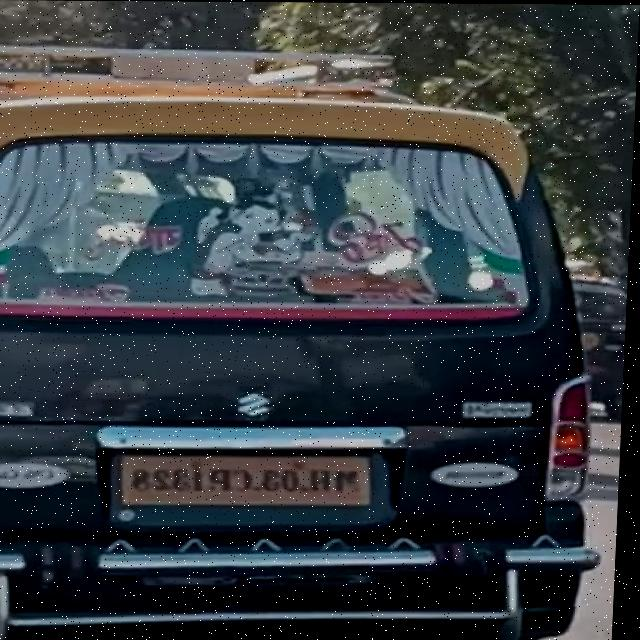plate: (122, 451, 379, 512)
